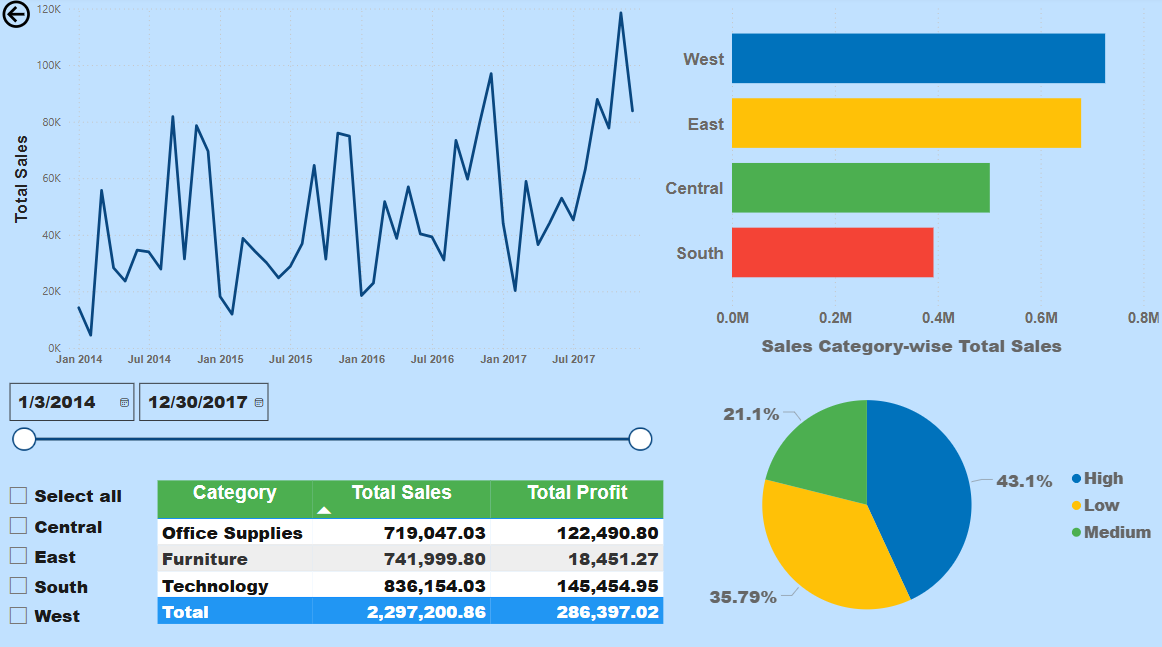

The dashboard page shown, as its layout file describes it:
{"tool":"powerbi","page":{"name":"Sales Analysis","canvas":[1280,720],"ordinal":3},"visuals":[{"type":"barChart","fields":{"Category":["Orders.Region"],"Y":["key Measures.Total Sales"]},"box":[725.9,0,554.4,370.5],"z":0},{"type":"lineChart","fields":{"Y":["key Measures.Total Sales"],"Category":["Date.Date.Variation.Date Hierarchy.Year","Date.Date.Variation.Date Hierarchy.Month"]},"box":[11.4,0,714.3,414.3],"z":1000},{"type":"tableEx","fields":{"Values":["Orders.Category","key Measures.Total Sales","key Measures.Total Profit"]},"box":[168.6,527.1,567.1,192.9],"z":2000},{"type":"slicer","fields":{"Values":["Date.Date"]},"box":[0,414.4,725.9,112.5],"z":3000},{"type":"slicer","fields":{"Values":["Orders.Region"]},"box":[0,527.1,168.6,192.9],"z":4000},{"type":"pieChart","title":"Sales Category-wise Total Sales","fields":{"Category":["Orders.Sales Category"],"Y":["key Measures.Total Sales"]},"box":[725.7,370,554.3,350],"z":5000},{"type":"actionButton","box":[0,0,100,40],"z":6000}]}

Visuals, with their boxes in screenshot pixels (x1, y1, x2, y2), scaled from the page's 1280x720 canvas onto the 1162x647 screenshot:
barChart - Orders.Region x key Measures.Total Sales: {"x1": 659, "y1": 0, "x2": 1161, "y2": 333}
lineChart - key Measures.Total Sales x Date.Date.Variation.Date Hierarchy.Year: {"x1": 10, "y1": 0, "x2": 659, "y2": 372}
tableEx - Orders.Category x key Measures.Total Sales: {"x1": 153, "y1": 474, "x2": 668, "y2": 646}
slicer - Date.Date: {"x1": 0, "y1": 372, "x2": 659, "y2": 473}
slicer - Orders.Region: {"x1": 0, "y1": 474, "x2": 153, "y2": 646}
"Sales Category-wise Total Sales" pieChart: {"x1": 659, "y1": 332, "x2": 1161, "y2": 646}
actionButton: {"x1": 0, "y1": 0, "x2": 91, "y2": 36}
